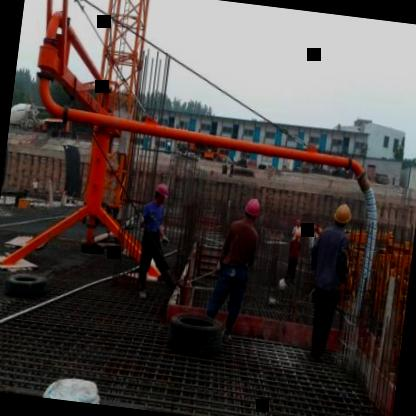helmet: (148, 176, 174, 210), (330, 198, 354, 231), (240, 192, 265, 222)
